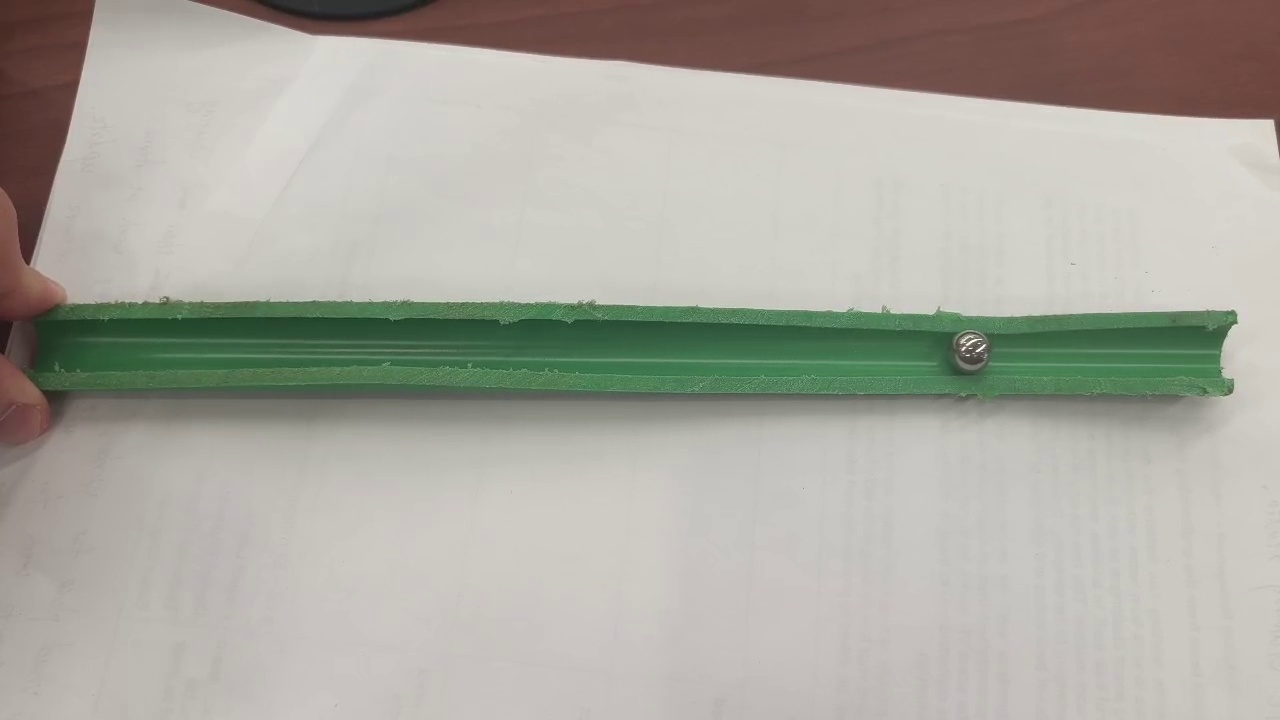ball: (953, 330, 989, 372)
